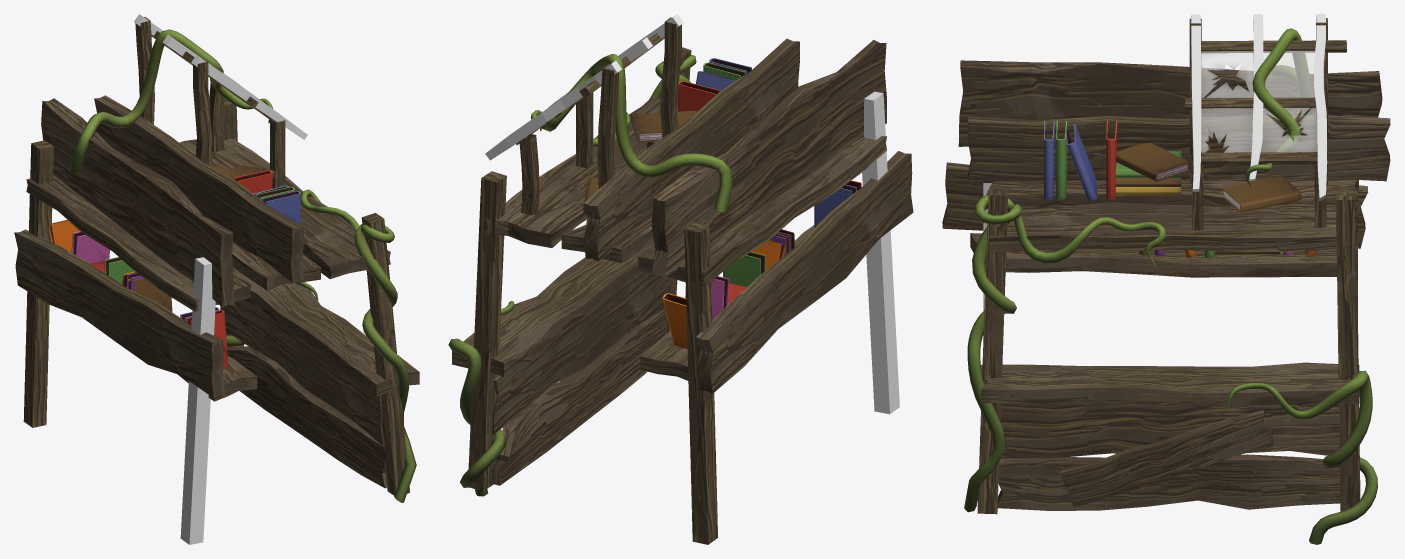
Rendered from SkillStand.fbx.
The picture shows the model from 3 angles, left to right: view 1: azimuth 30°, elevation 25°; view 2: azimuth 150°, elevation 25°; view 3: azimuth 270°, elevation 25°; orthographic projection. The views are drawn at different scales.
Visible parts, largest first — view 1: techoHabilidades, frenteHabilidades, soportesHabilidades, enredaderasHabilidades, ventanalHabilidades, librosHabilidades; view 2: techoHabilidades, frenteHabilidades, soportesHabilidades, ventanalHabilidades, librosHabilidades, enredaderasHabilidades; view 3: techoHabilidades, frenteHabilidades, ventanalHabilidades, enredaderasHabilidades, soportesHabilidades, librosHabilidades.
Part boxes in pixels (x1,y1,x2,y2): techoHabilidades: [14, 95, 390, 401]; frenteHabilidades: [223, 267, 419, 488]; soportesHabilidades: [23, 98, 409, 544]; enredaderasHabilidades: [69, 29, 416, 502]; ventanalHabilidades: [134, 14, 307, 188]; librosHabilidades: [48, 164, 300, 369]; techoHabilidades: [486, 38, 913, 393]; frenteHabilidades: [452, 242, 671, 485]; soportesHabilidades: [468, 47, 899, 544]; ventanalHabilidades: [485, 14, 683, 215]; librosHabilidades: [583, 58, 861, 348]; enredaderasHabilidades: [448, 54, 732, 496]; techoHabilidades: [942, 60, 1390, 277]; frenteHabilidades: [981, 362, 1359, 510]; ventanalHabilidades: [1185, 14, 1346, 230]; enredaderasHabilidades: [964, 28, 1377, 544]; soportesHabilidades: [977, 183, 1360, 514]; librosHabilidades: [1012, 120, 1316, 258].
Size of the model in its own units: 433 by 706 by 618.
Materials: 12 (10 with a texture image).
